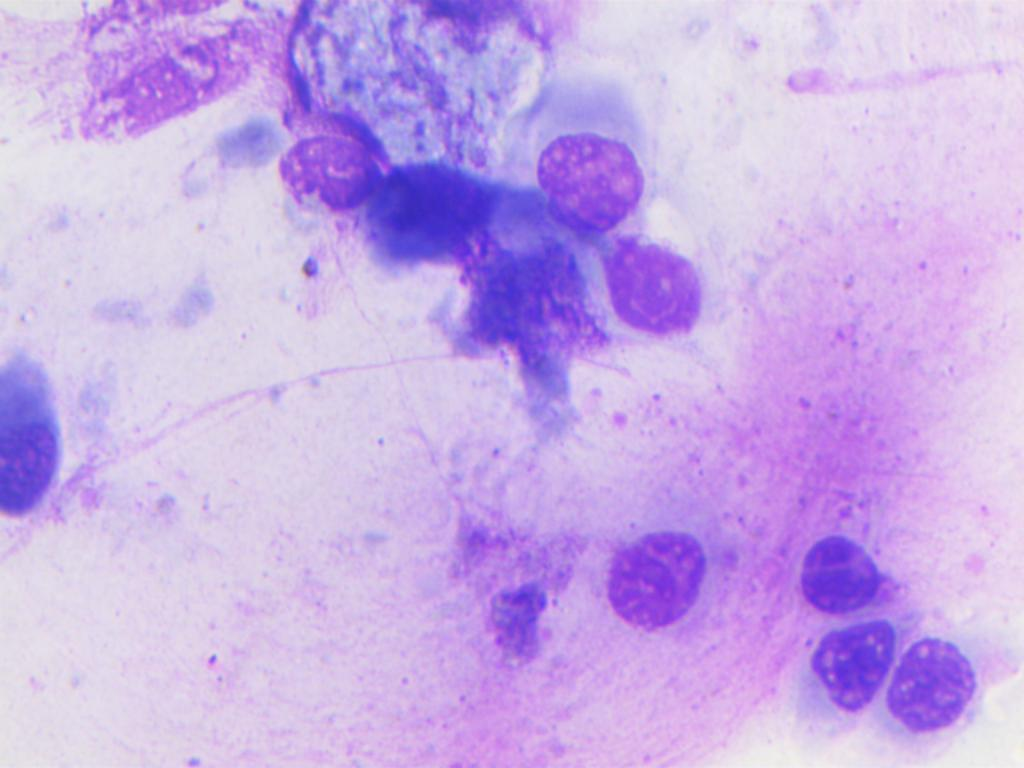epithelial: (600, 516, 717, 640), (591, 232, 711, 338), (526, 131, 649, 232), (805, 615, 896, 723), (887, 627, 978, 735), (274, 128, 383, 214), (784, 525, 882, 617), (0, 407, 63, 517)
